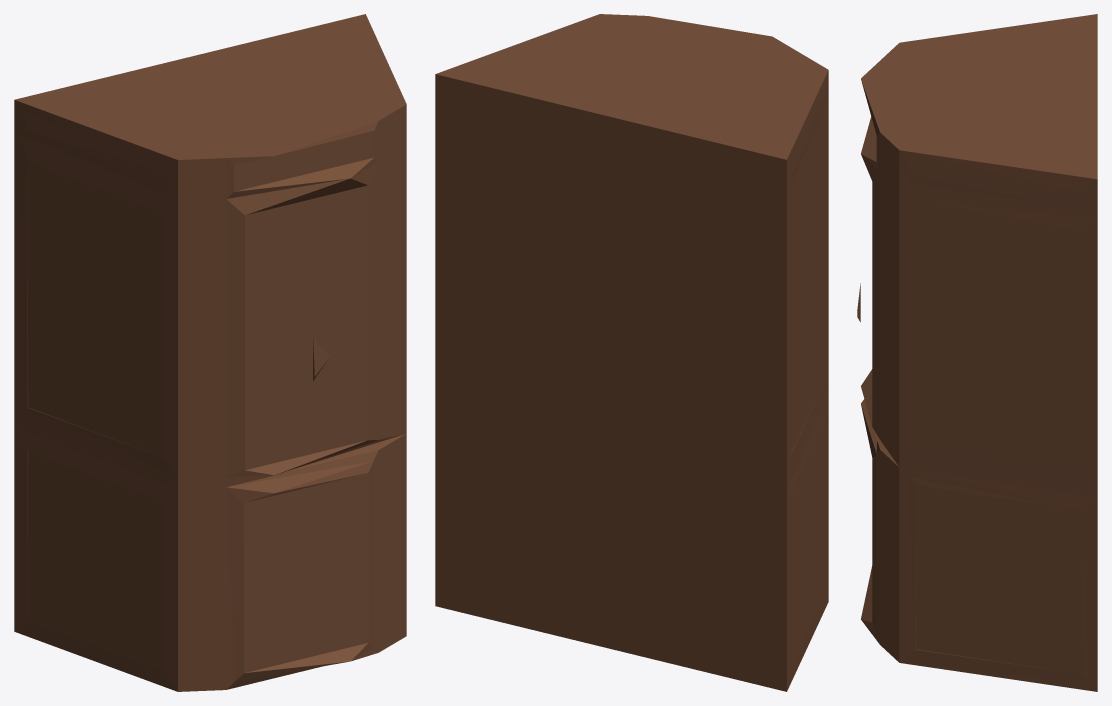
Rendered from ticket-office.lod2.glb.
The picture shows the model from 3 angles, left to right: view 1: azimuth 30°, elevation 25°; view 2: azimuth 150°, elevation 25°; view 3: azimuth 270°, elevation 25°; orthographic projection. The views are drawn at different scales.
Parts seen in each view (by area): view 1: defaultMaterial; view 2: defaultMaterial; view 3: defaultMaterial.
Boxes of the visible parts, box(x1,y1,x2,y2) form: defaultMaterial: box(14, 14, 406, 691); defaultMaterial: box(435, 14, 828, 691); defaultMaterial: box(857, 14, 1097, 691).
Bounding box in the file's own units: 2.07 × 3 × 1.27.
